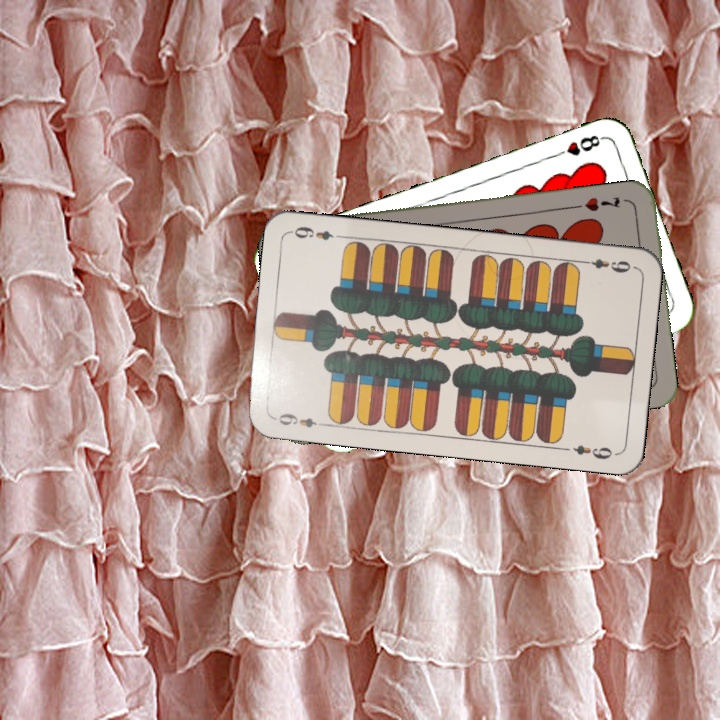E9: (270, 409, 329, 430), (577, 255, 637, 275)
H7: (580, 192, 623, 214)
H8: (550, 131, 607, 160)
